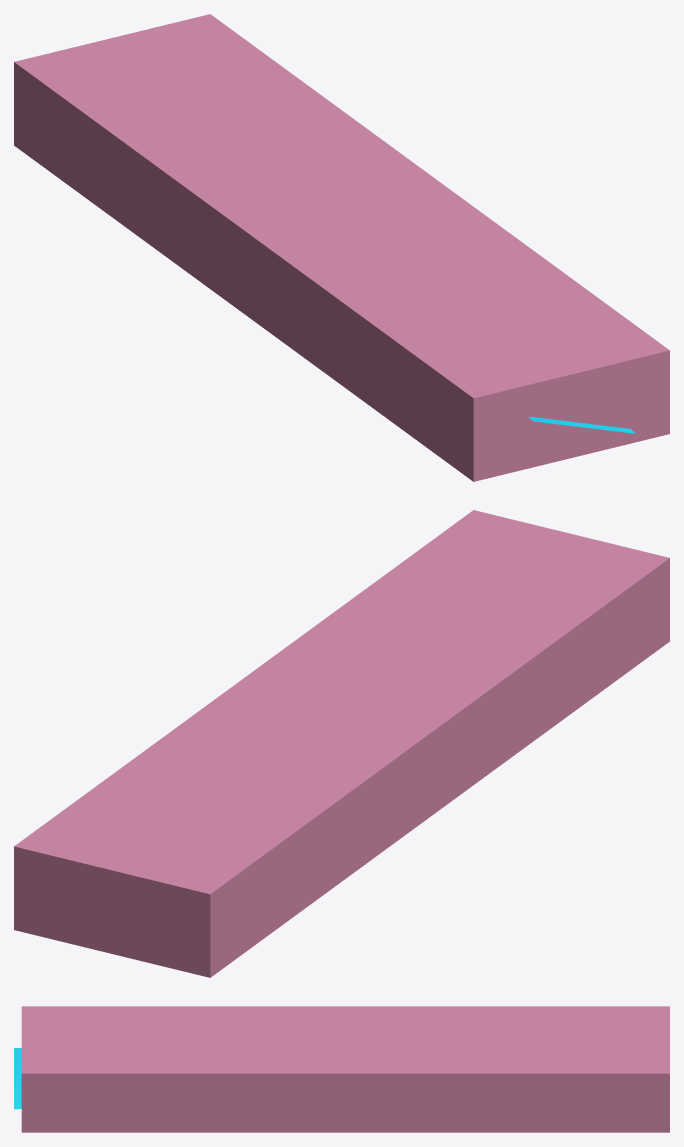
Rendered from vine_ground_small.dae.
3 renders of one model, top to bottom at view 1: azimuth 30°, elevation 25°; view 2: azimuth 150°, elevation 25°; view 3: azimuth 270°, elevation 25°, orthographic. The views are drawn at different scales.
Visible parts, largest first — view 1: Untitled; view 2: Untitled; view 3: Untitled, tree_oak_bush_a120.
Boxes of the visible parts, bbox=[...] form: Untitled: bbox=[14, 14, 669, 481]; Untitled: bbox=[14, 510, 669, 977]; Untitled: bbox=[21, 1006, 669, 1132]; tree_oak_bush_a120: bbox=[14, 1048, 21, 1109].
Bounding box in the file's own units: 0.409 × 1.68 × 0.1664.
